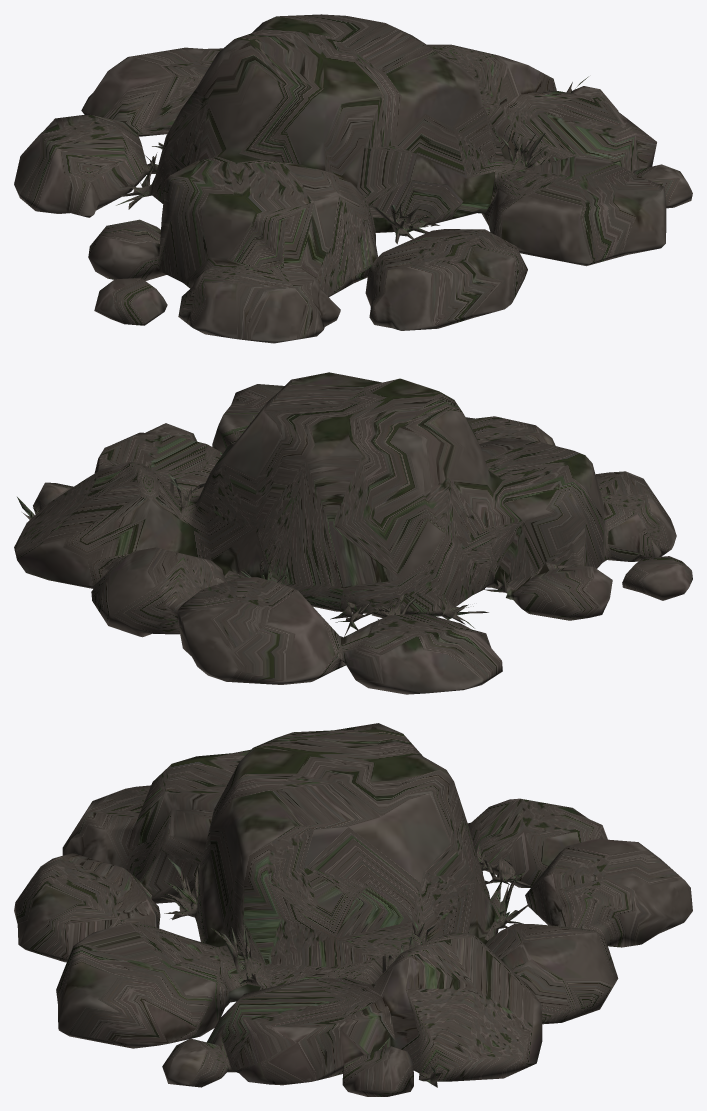
The model's file is rubble.glb.
3 views of the same model, one above another, from view 1: azimuth 30°, elevation 25°; view 2: azimuth 150°, elevation 25°; view 3: azimuth 270°, elevation 25° (orthographic). The views are drawn at different scales.
Parts seen in each view (by area): view 1: rubble; view 2: rubble; view 3: rubble.
Part boxes in pixels (<box>): rubble: <box>14,14,692,343</box>; rubble: <box>14,372,692,694</box>; rubble: <box>14,723,692,1096</box>.
Bounding box in the file's own units: 1.9 × 0.5378 × 1.79.
Materials: 1 (1 with a texture image).
